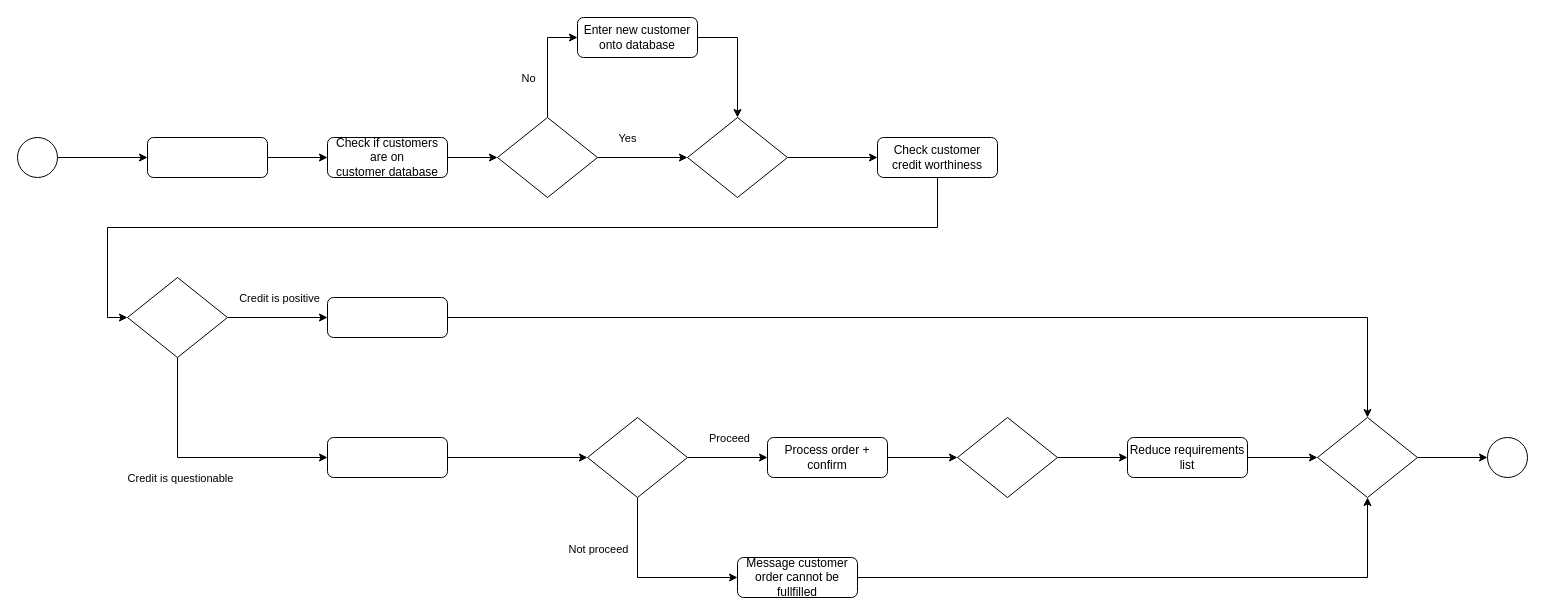
This 1545x616 diagram has some shape labels left out. The box of each missing label's shape, as (x1, y1, x2, y2) in pixels:
Check with finance department: (326, 436, 448, 478)
Process order + send confirmation: (326, 296, 448, 338)
Receive and check order: (146, 136, 268, 178)
